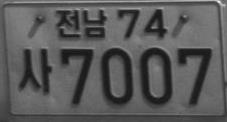0: (139, 46, 173, 105), (99, 46, 133, 104)
4: (143, 8, 168, 38)
7: (176, 47, 212, 105), (60, 47, 94, 104), (117, 8, 140, 38)
사: (18, 48, 52, 93)
전남_H: (55, 9, 107, 39)
